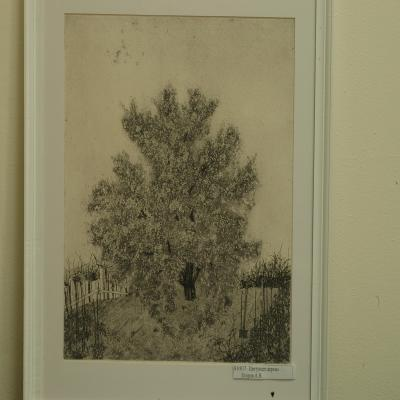graphics: (62, 15, 294, 364)
